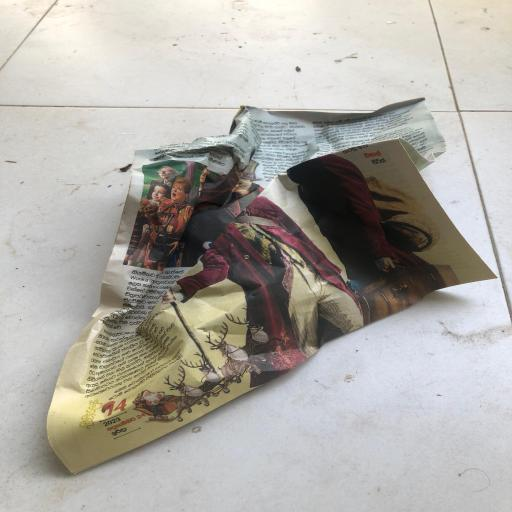waste: (37, 89, 503, 479)
